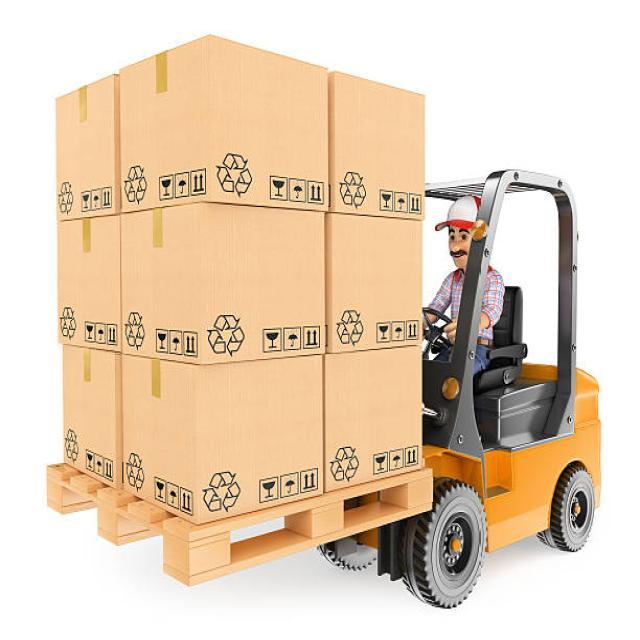Wooden-Pallets: (39, 455, 437, 585)
